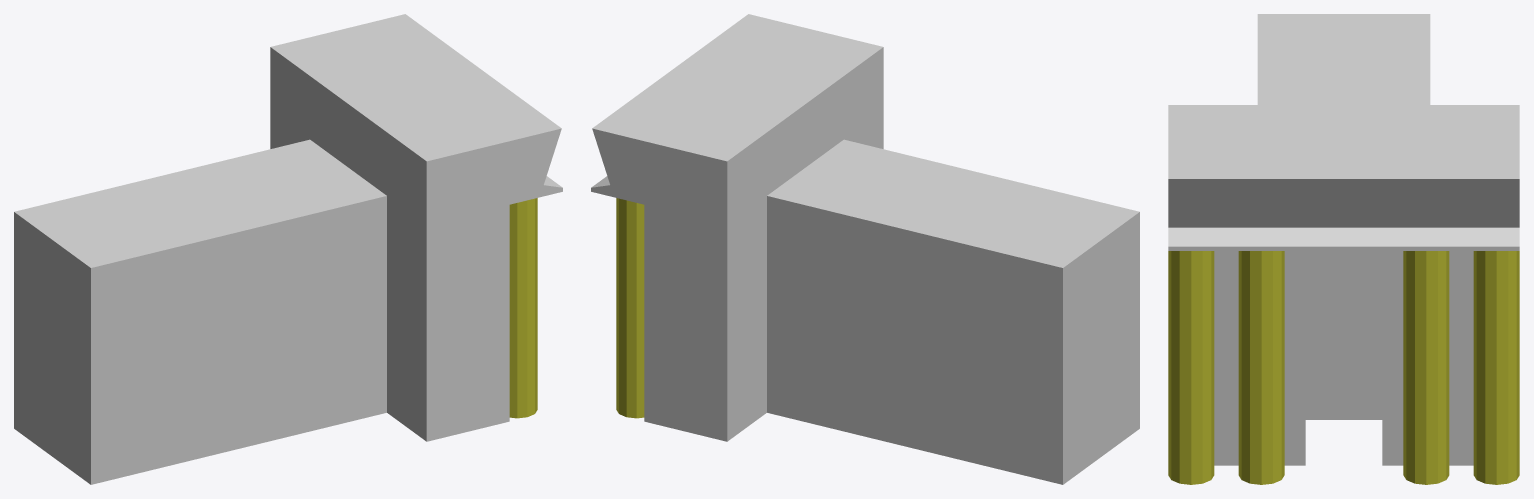
Rendered from temple.glb.
3 views of the same model, side by side, from view 1: azimuth 30°, elevation 25°; view 2: azimuth 150°, elevation 25°; view 3: azimuth 270°, elevation 25° (orthographic). The views are drawn at different scales.
Parts seen in each view (by area): view 1: box_object1; view 2: box_object1; view 3: box_object1.
Boxes of the visible parts, x1,y1,x2,y2 form: box_object1: [14, 14, 562, 484]; box_object1: [591, 14, 1139, 484]; box_object1: [1168, 14, 1519, 484].
Size of the model in its own units: 29.2 by 18.1 by 18.3.
